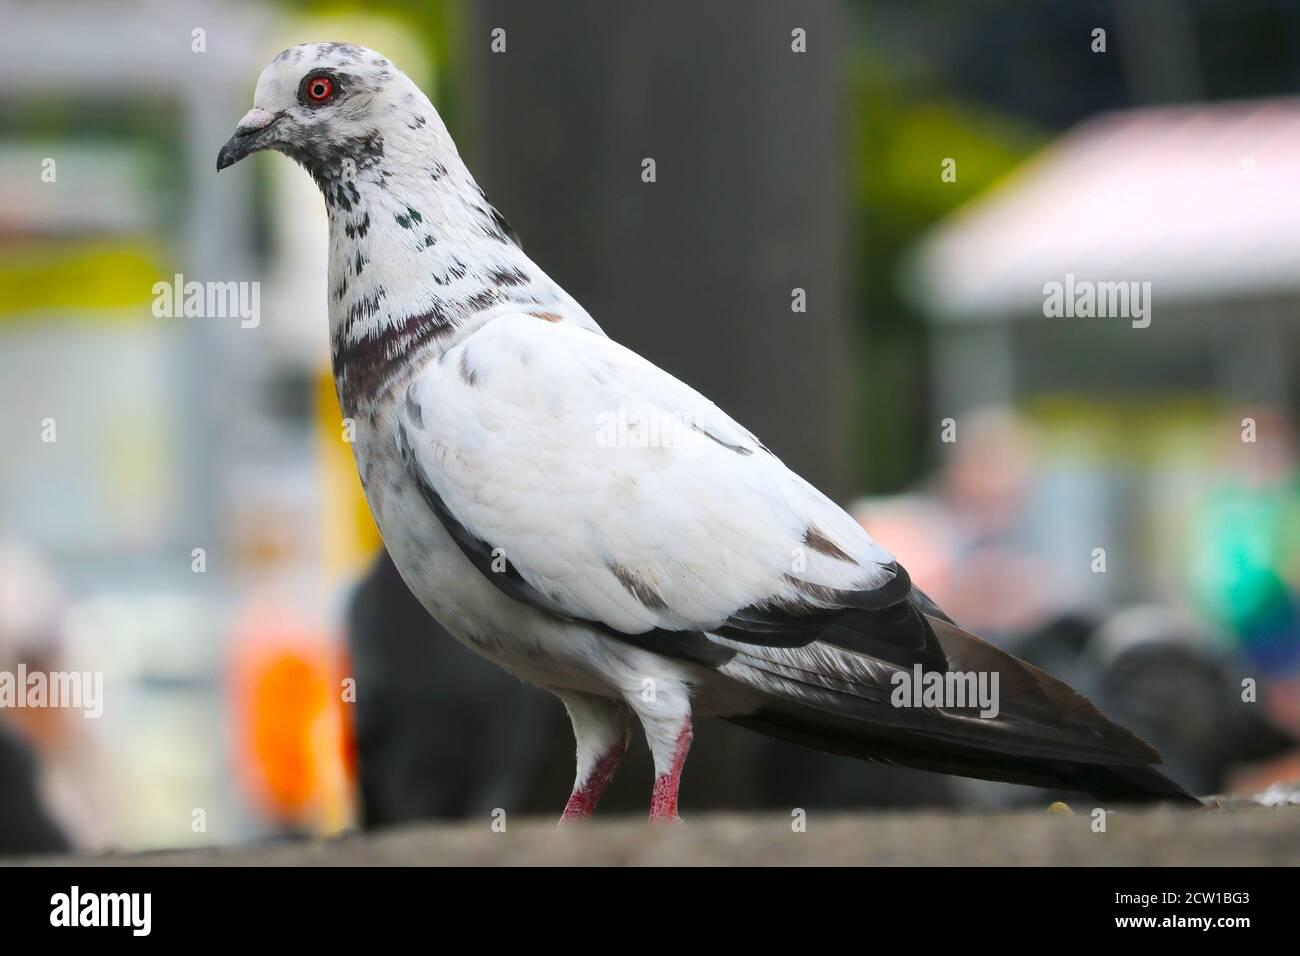Flying Rat: (200, 49, 1201, 834)
